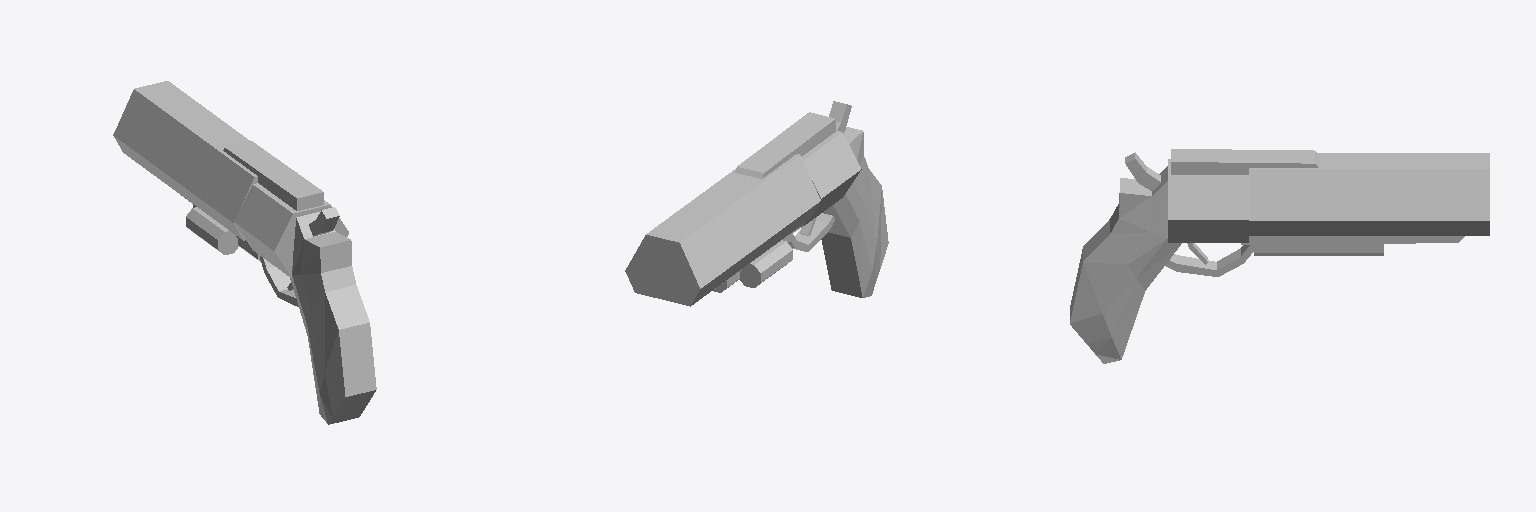
File: hand_cannon.obj
3 views of the same model, side by side, from view 1: azimuth 30°, elevation 25°; view 2: azimuth 150°, elevation 25°; view 3: azimuth 270°, elevation 25° (orthographic).
Parts seen in each view (by area): view 1: cylinder, cube; view 2: cylinder, cube; view 3: cylinder, cube.
Part boxes in pixels (bbox=[...]): cylinder: bbox=[113, 81, 348, 278]; cube: bbox=[181, 141, 376, 424]; cylinder: bbox=[625, 130, 861, 306]; cube: bbox=[715, 101, 888, 297]; cylinder: bbox=[1168, 153, 1489, 255]; cube: bbox=[1070, 149, 1464, 363].
Bounding box in the file's own units: 0.1047 × 0.2676 × 0.5067.